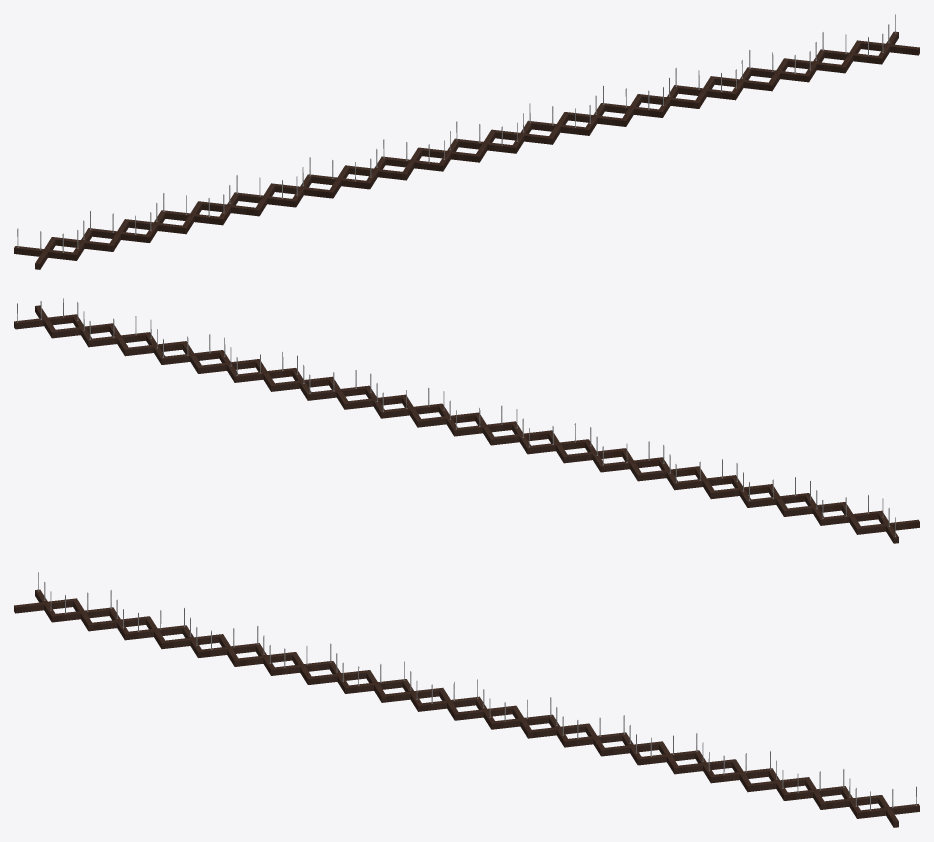
Rendered from Obstacles.fbx.
3 renders of one model, top to bottom at view 1: azimuth 30°, elevation 25°; view 2: azimuth 150°, elevation 25°; view 3: azimuth 330°, elevation 25°, orthographic.
Visible parts, largest first — view 1: Obstacles; view 2: Obstacles; view 3: Obstacles.
Part boxes in pixels (x1=…): Obstacles: x1=14, y1=14, x2=919, y2=269; Obstacles: x1=14, y1=298, x2=919, y2=543; Obstacles: x1=14, y1=572, x2=919, y2=827.
Bounding box in the file's own units: 389 × 10.45 × 18.93.
Materials: 2 (2 with a texture image).
